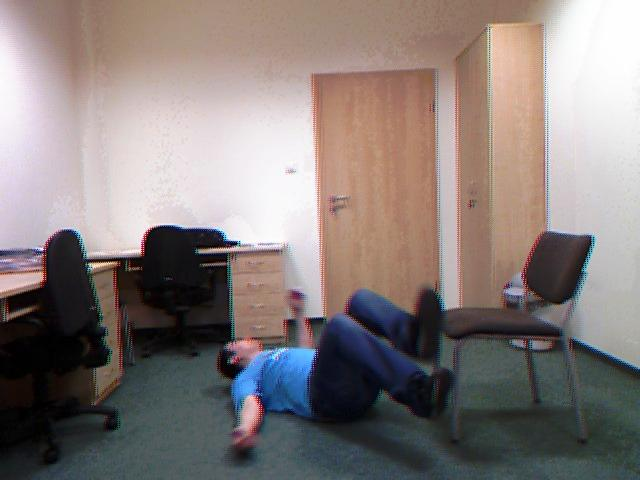fall: (217, 287, 465, 458)
